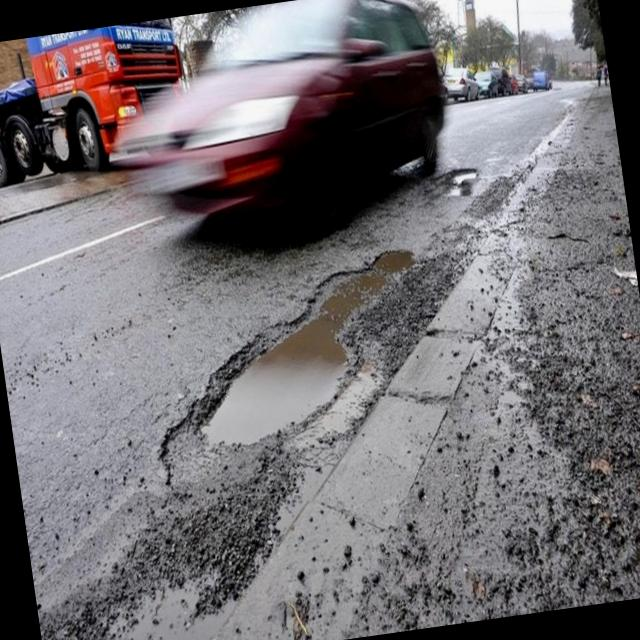bad-road: (134, 244, 448, 461), (442, 164, 481, 199)
